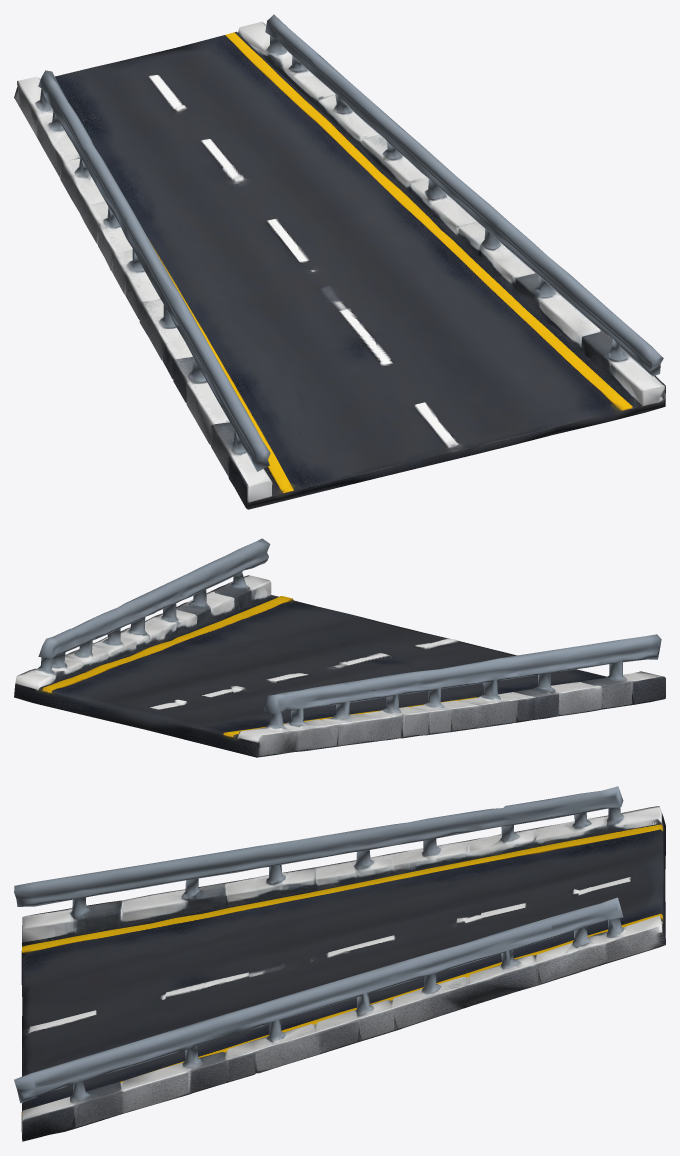
File: 2laneroad.glb
3 renders of one model, top to bottom at view 1: azimuth 30°, elevation 25°; view 2: azimuth 150°, elevation 25°; view 3: azimuth 270°, elevation 25°, orthographic.
Visible parts, largest first — view 1: tripo_node_eb6cba95-8920-4425-94d5-76055f518d65; view 2: tripo_node_eb6cba95-8920-4425-94d5-76055f518d65; view 3: tripo_node_eb6cba95-8920-4425-94d5-76055f518d65.
Part boxes in pixels (<box>): tripo_node_eb6cba95-8920-4425-94d5-76055f518d65: <box>14,14,665,509</box>; tripo_node_eb6cba95-8920-4425-94d5-76055f518d65: <box>14,538,665,757</box>; tripo_node_eb6cba95-8920-4425-94d5-76055f518d65: <box>14,786,665,1141</box>.
Size of the model in its own units: 0.7443 by 0.3389 by 1.
1 material, 1 textured.
